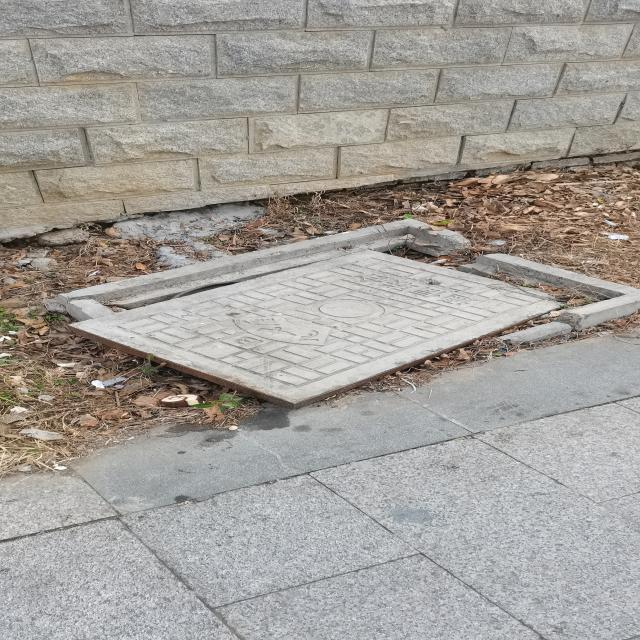Faulty: (52, 217, 634, 402)
